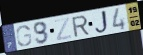4: (111, 7, 128, 31)
9: (32, 20, 51, 45)
G: (16, 24, 33, 47)
J: (93, 9, 111, 35)
R: (71, 14, 91, 38)
Z: (53, 16, 72, 42)
